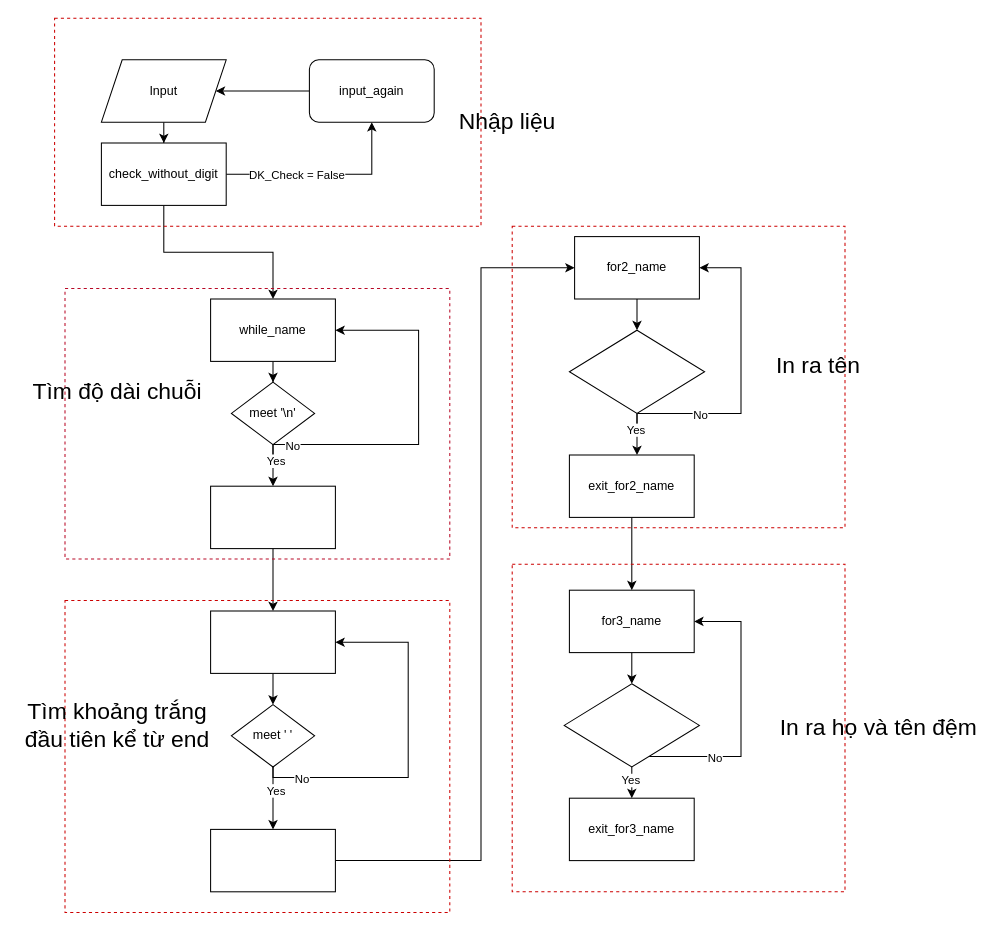
Image size: 1005x931. Some labels were removed from this diagram. Here are the shapes that lost their labels. From the top down, the centre of each, then its label:
[636,371]: come to the end of string ?
[272,517]: exit_while_name
[272,641]: for1_name
[631,725]: come to the first blank from end ?
[272,860]: exit_for1_name
